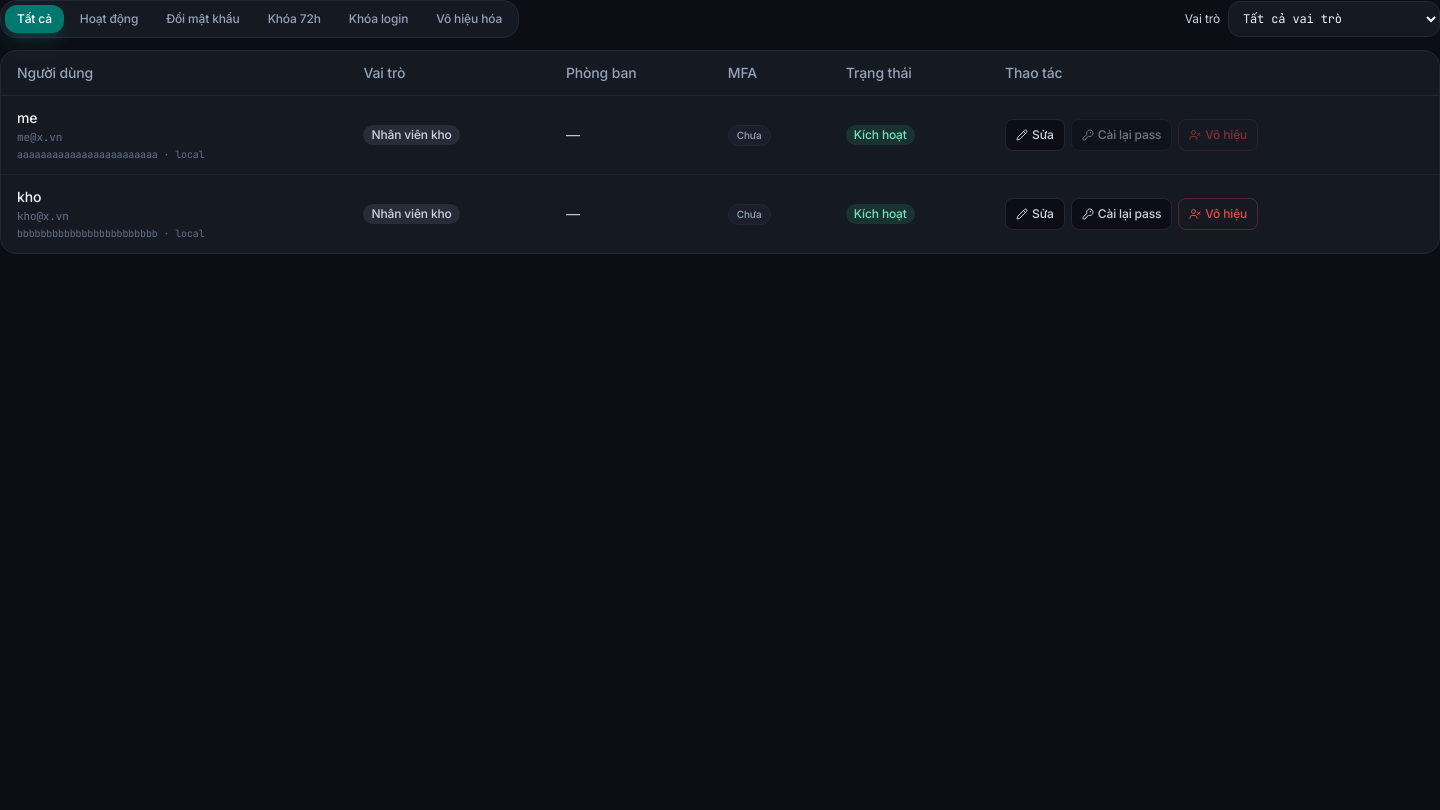
Test: UserManagementTable — xác nhận thao tác › khoá nút trên dòng của mình; vô hiệu hóa người khác cần gõ đúng email
Later steps or results of the test are not shown.
expect the button "Vô hiệu" in the row of "me@x.vn" is disabled: met, box [1178,119,1258,151]
Click the button "Vô hiệu" in the row of "kho@x.vn". click: (1218, 214)
box: [1178,198,1258,230]
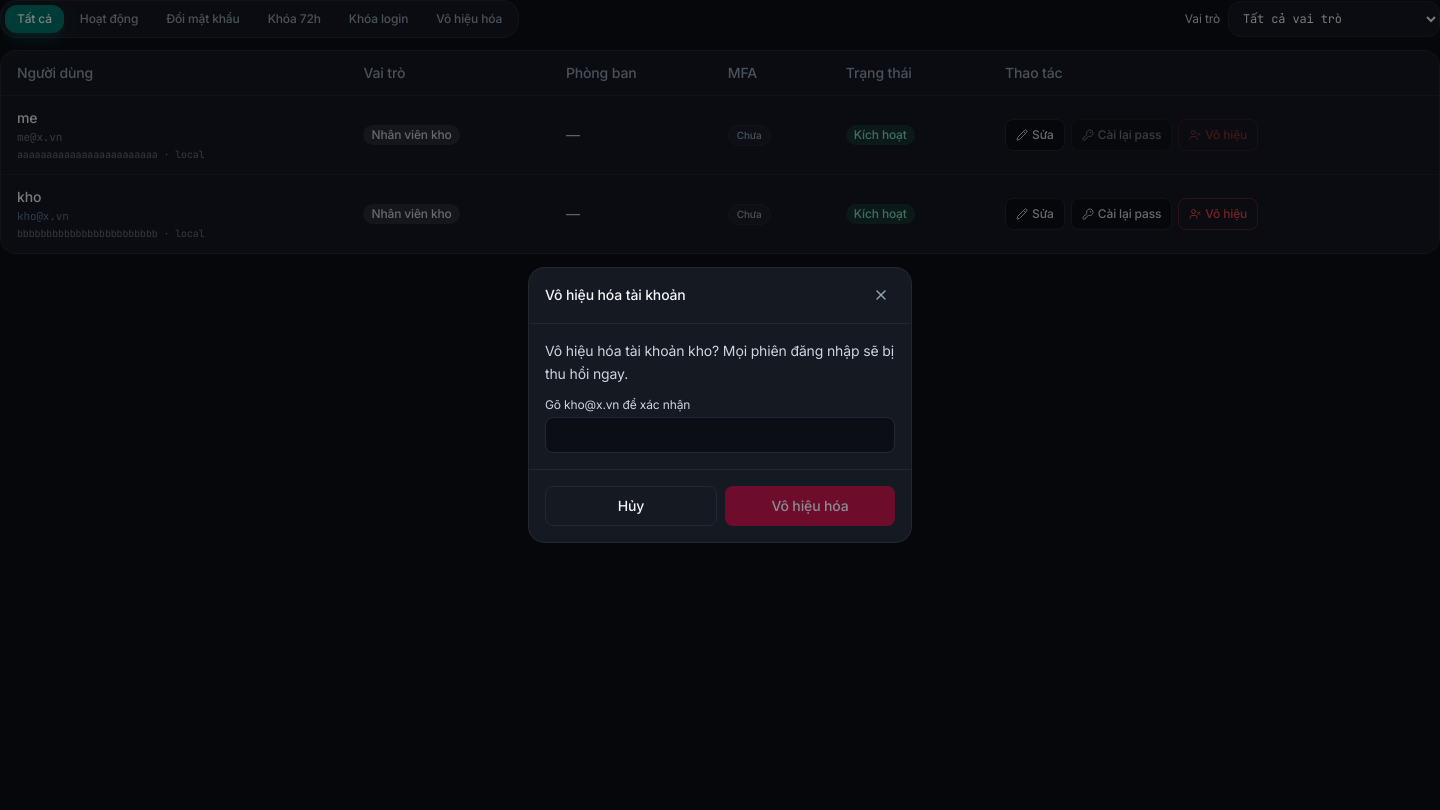
expect the button "Vô hiệu hóa" is disabled: met, box [725,486,895,526]
Type "KHO@x.vn" into the field labelled "Gõ kho@x.vn để xác nhận". click: (720, 435)
box: [545,417,895,453]
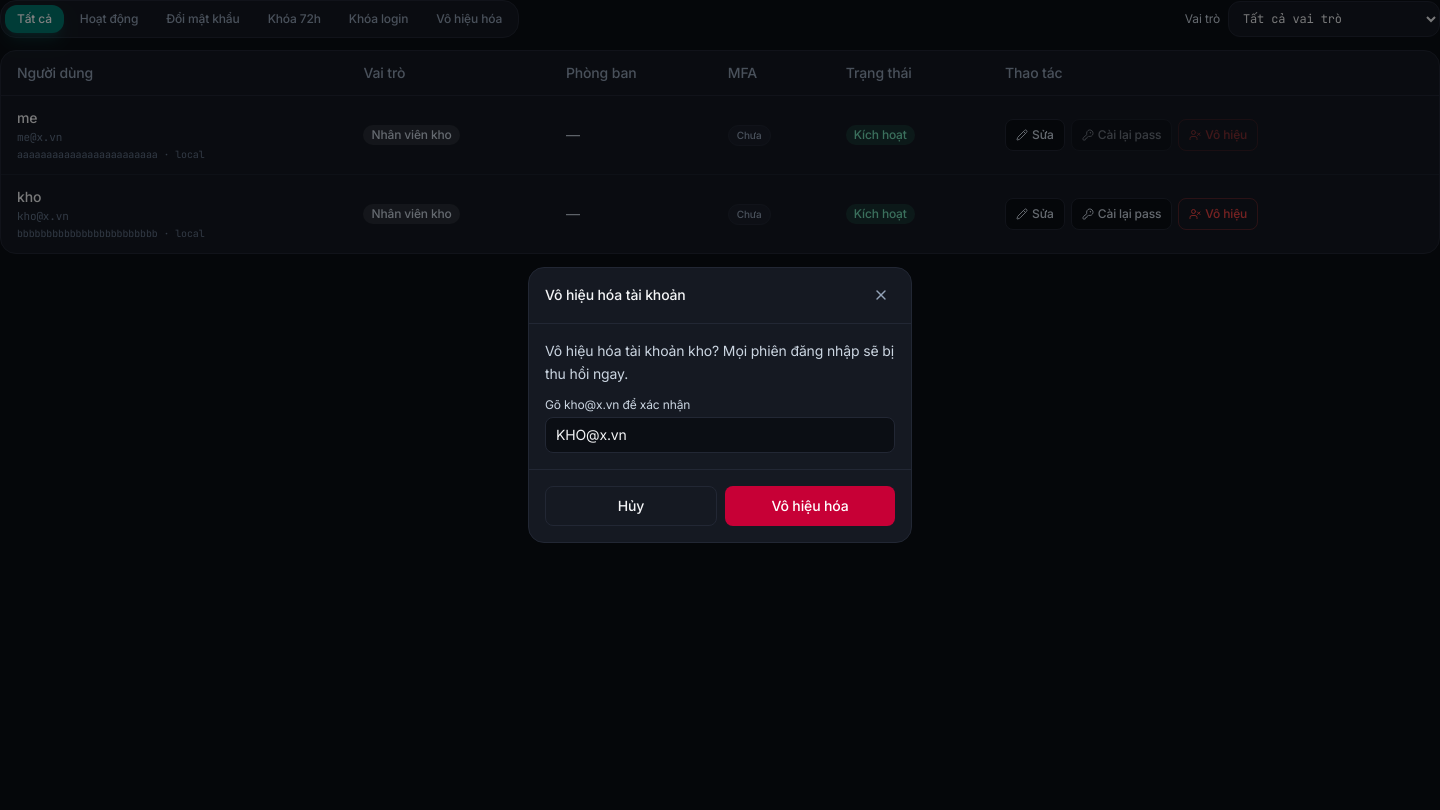
expect the button "Vô hiệu hóa" is enabled: met, box [725,486,895,526]
